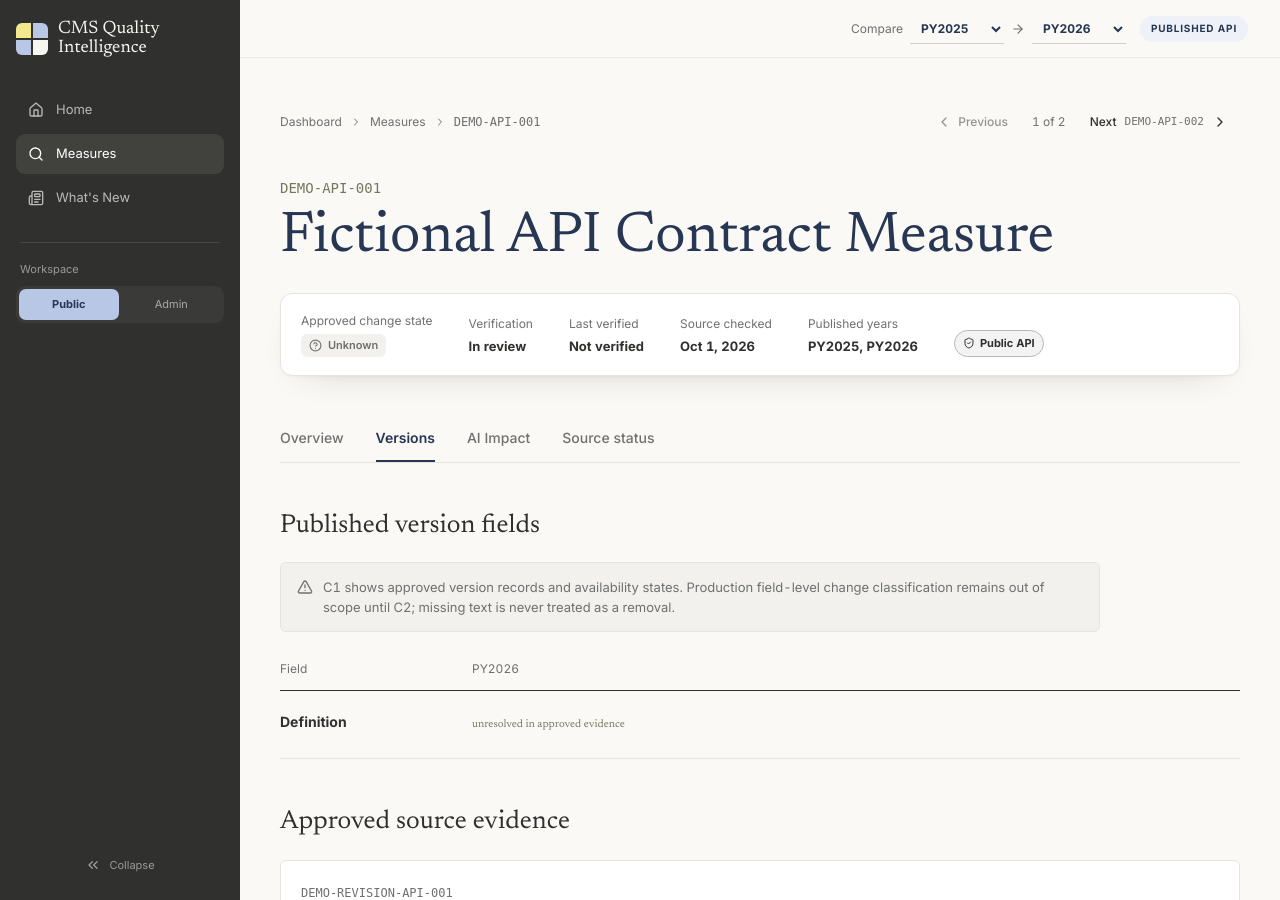
Test: C1 frontend API integration › loads a direct detail route with unresolved semantics and M2 boundaries
The width and height of the screenshot is (1280, 900).
Expected: the heading "Fictional API Contract Measure" is shown, 280,209 -> 1054,266
Expected: the text "unresolved in approved evidence" is shown, 472,719 -> 625,730
Step 1. Press the mouse on the tab "AI Impact" → (499, 439), box 467,416 -> 530,462
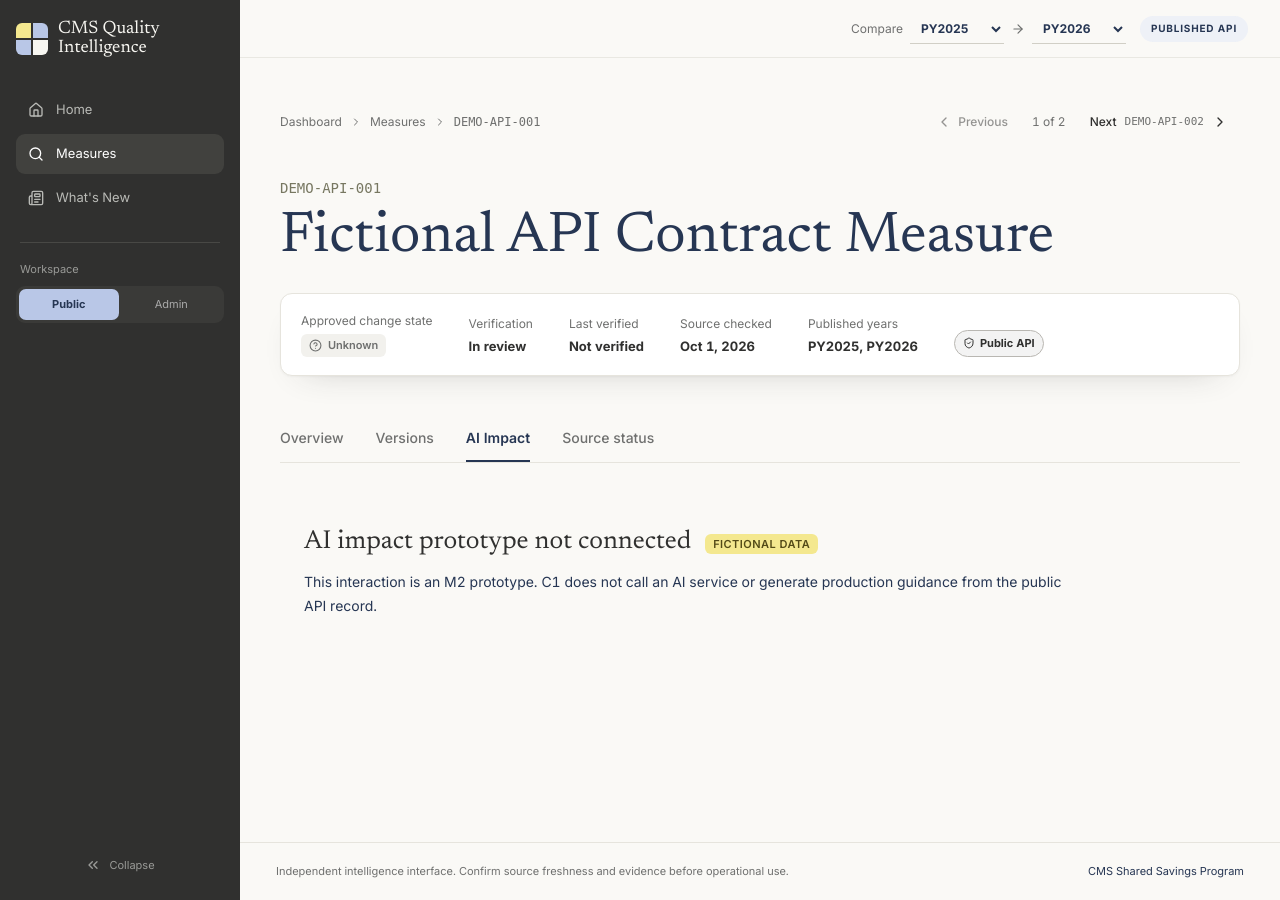
Result: the text "C1 does not call an AI service" is shown at 304,573 -> 1061,614
